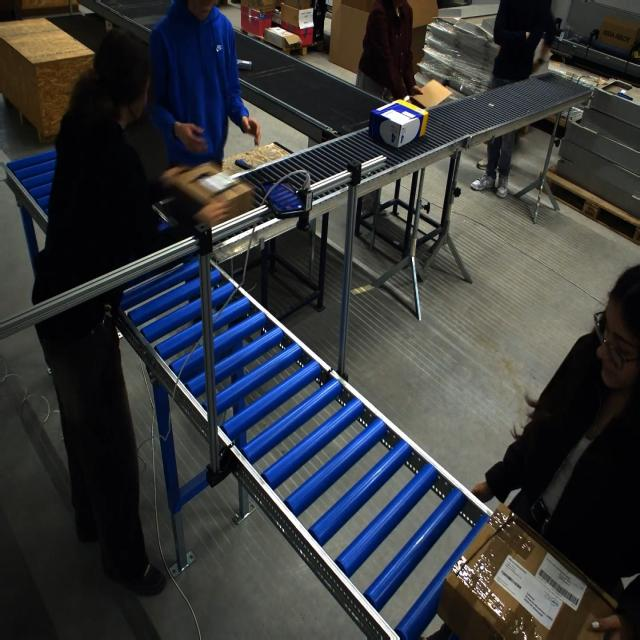box: (438, 505, 624, 639), (167, 162, 255, 226), (372, 96, 428, 161)
